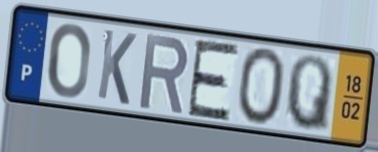E: (184, 38, 242, 123)
K: (94, 26, 139, 109)
O: (235, 45, 287, 128), (47, 21, 92, 101)
Q: (284, 53, 334, 136)
R: (137, 30, 191, 116)
